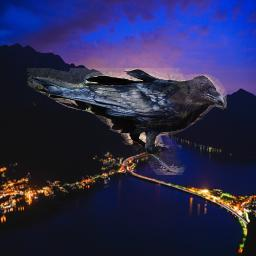Crow: (27, 68, 227, 175)
